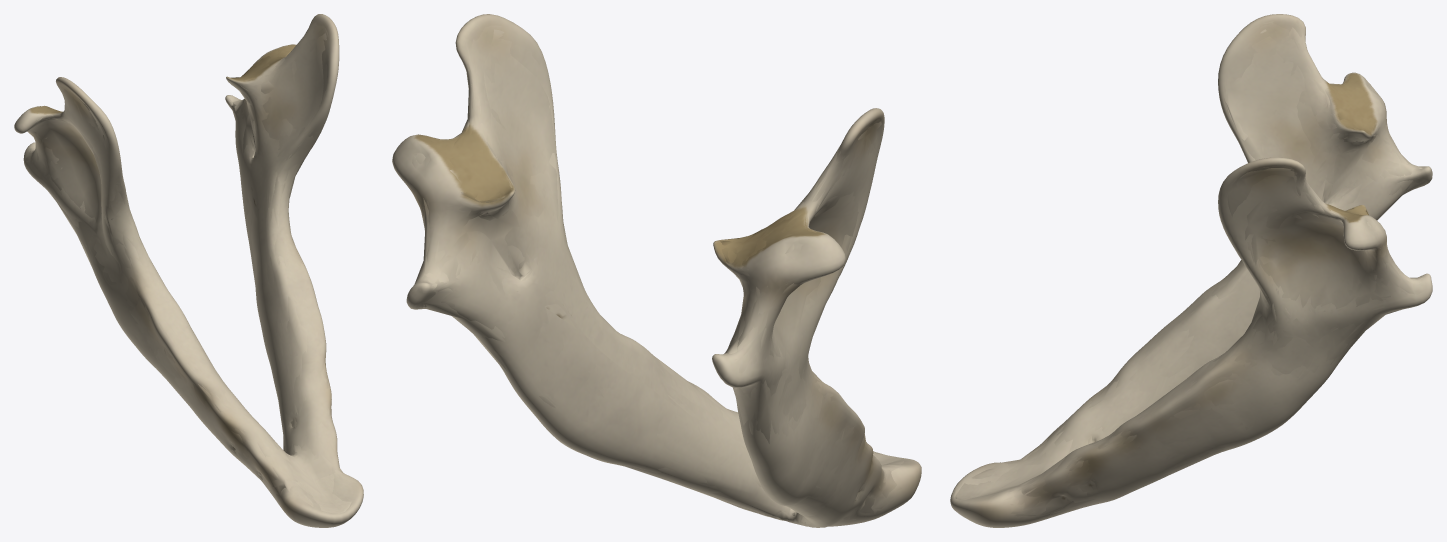
File: Mandibula.fbx
3 views of the same model, side by side, from view 1: azimuth 30°, elevation 25°; view 2: azimuth 150°, elevation 25°; view 3: azimuth 270°, elevation 25° (orthographic). The views are drawn at different scales.
Parts seen in each view (by area): view 1: Mandibula high, Mandibula low, Mandibula; view 2: Mandibula high, Mandibula low, Mandibula; view 3: Mandibula high, Mandibula low, Mandibula.
Part boxes in pixels (left/top/right/bottom): Mandibula high: left=14, top=14, right=363, bottom=527; Mandibula low: left=28, top=33, right=351, bottom=513; Mandibula: left=26, top=22, right=355, bottom=515; Mandibula high: left=392, top=14, right=921, bottom=527; Mandibula low: left=414, top=29, right=903, bottom=524; Mandibula: left=410, top=25, right=907, bottom=526; Mandibula high: left=950, top=14, right=1432, bottom=527; Mandibula low: left=955, top=27, right=1422, bottom=515; Mandibula: left=953, top=21, right=1425, bottom=520.
Size of the model in its own units: 21.3 by 26.36 by 26.45.
